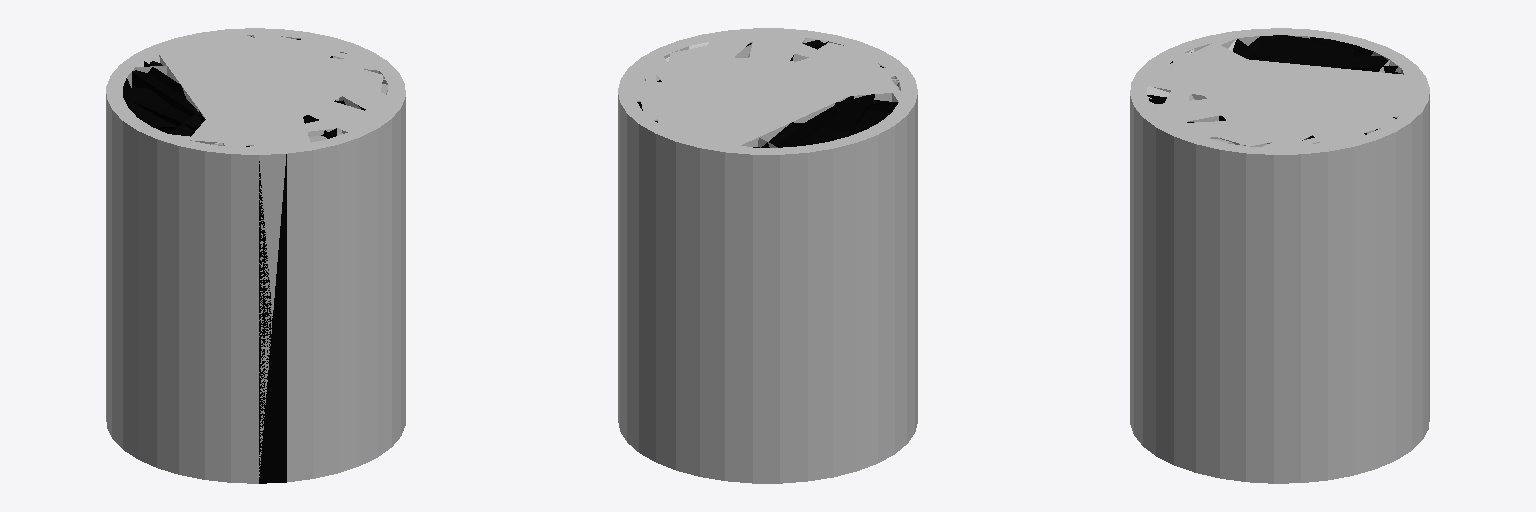
The model's file is Keyboard.obj.
3 renders of one model, left to right at view 1: azimuth 30°, elevation 25°; view 2: azimuth 150°, elevation 25°; view 3: azimuth 270°, elevation 25°, orthographic.
Parts seen in each view (by area): view 1: Cylinder001, Box20179; view 2: Cylinder001, Box20179; view 3: Cylinder001, Box20179.
Boxes of the visible parts, x1=… form: Cylinder001: x1=106, y1=28, x2=405, y2=483; Box20179: x1=123, y1=30, x2=400, y2=483; Cylinder001: x1=618, y1=28, x2=917, y2=483; Box20179: x1=635, y1=28, x2=907, y2=475; Cylinder001: x1=1130, y1=28, x2=1429, y2=483; Box20179: x1=1132, y1=35, x2=1429, y2=479.
Size of the model in its own units: 9.3 by 11.24 by 9.3.